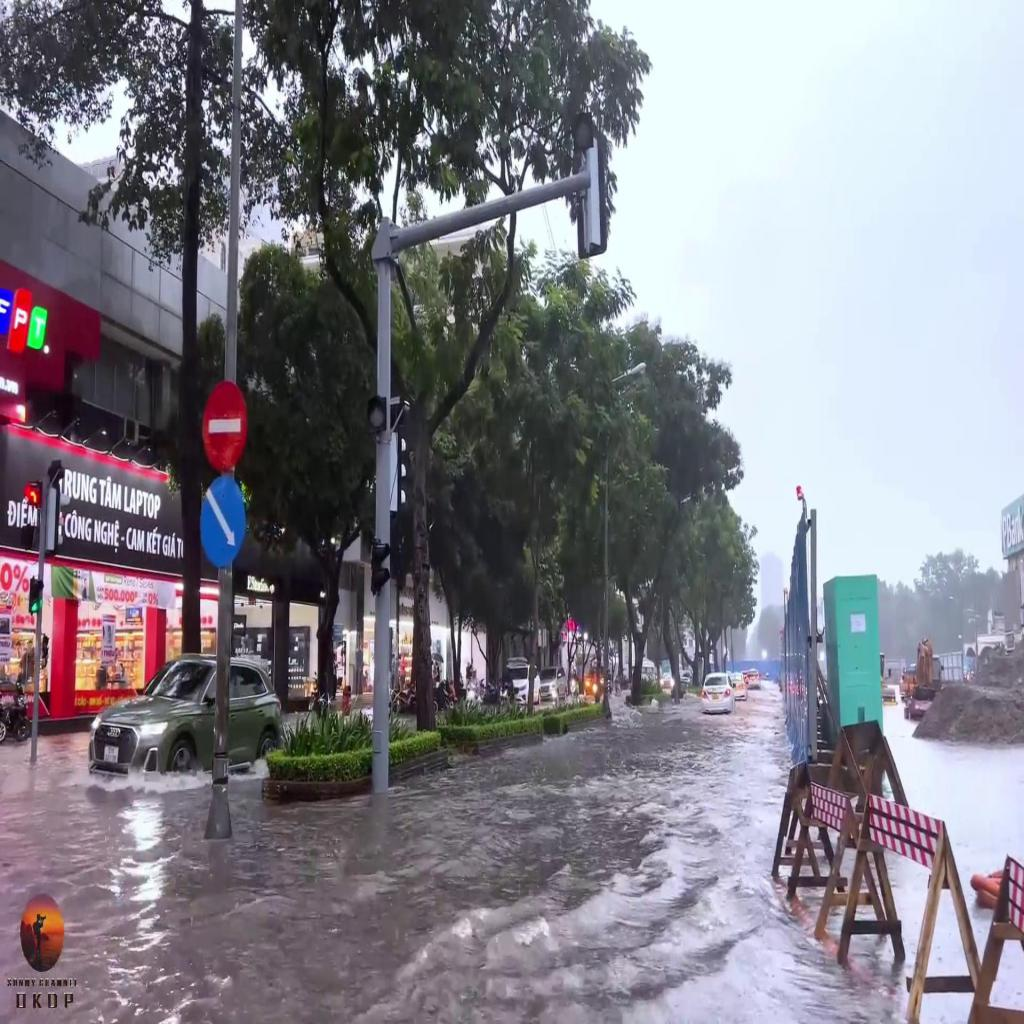cam_xe_di_nguoc_chieu: (202, 376, 247, 472)
huong_phai_di_vuot_chuong_ngai_vat_phai: (200, 477, 246, 567)
